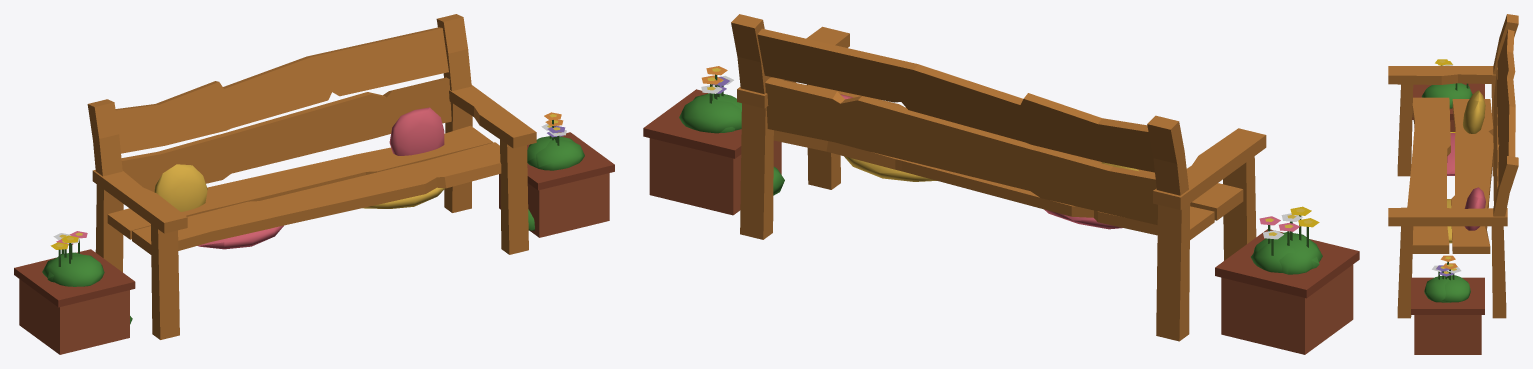
The model's file is sunset_bench-2.glb.
The picture shows the model from 3 angles, left to right: view 1: azimuth 30°, elevation 25°; view 2: azimuth 150°, elevation 25°; view 3: azimuth 270°, elevation 25°; orthographic projection. The views are drawn at different scales.
Parts seen in each view (by area): view 1: decor-sunset_bench-2; view 2: decor-sunset_bench-2; view 3: decor-sunset_bench-2.
Boxes of the visible parts, left/top/right/bottom form: decor-sunset_bench-2: left=14, top=14, right=614, bottom=354; decor-sunset_bench-2: left=643, top=14, right=1359, bottom=354; decor-sunset_bench-2: left=1388, top=14, right=1518, bottom=354.
Bounding box in the file's own units: 4.92 × 1.56 × 1.2.
